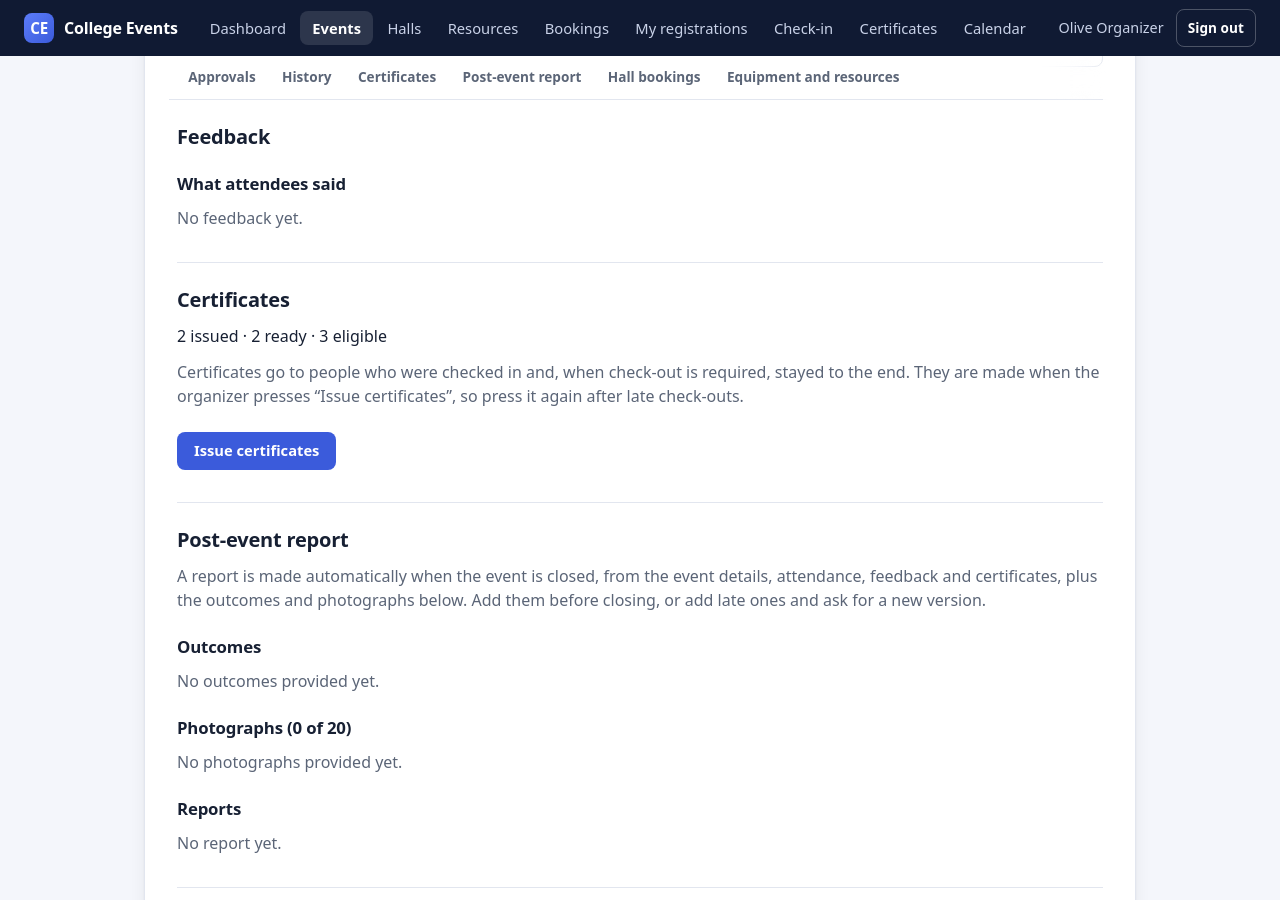
Scenario: certificates on the event page (staff) › shows the server message when issuing is refused
(page scrolled)
Click the button "Issue certificates" at (257, 451), box [177, 432, 336, 470]
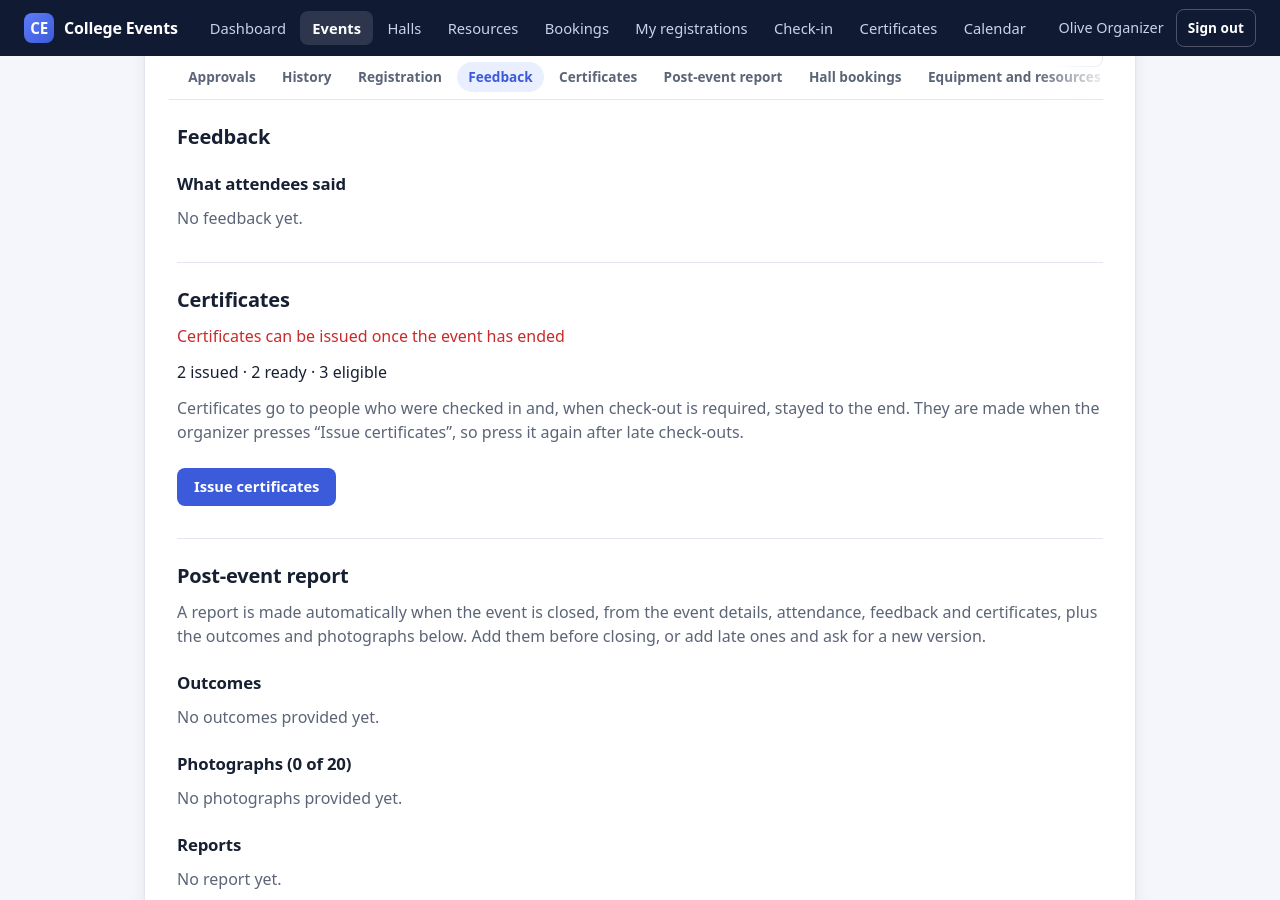
Result: the message shows "once the event has ended" at [177, 324, 565, 346]
